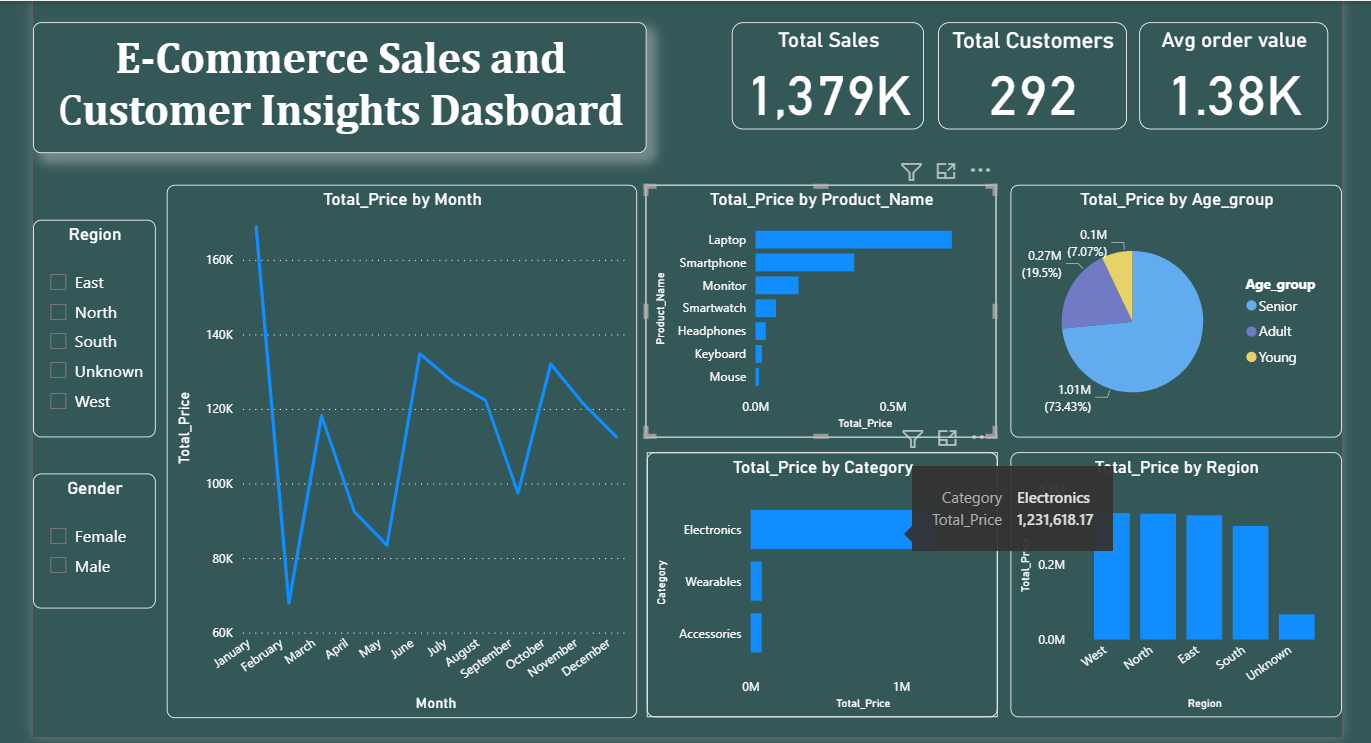

The dashboard page shown, as its layout file describes it:
{"tool":"powerbi","page":{"name":"Page 1","canvas":[1280,720],"ordinal":0},"visuals":[{"type":"card","title":"Total Sales","fields":{"Values":["Sum(ecommerce_db ecommerce_data.Total_Price)"]},"box":[683.3,20.8,188.3,105.1],"z":0},{"type":"card","title":"Total Customers","fields":{"Values":["ecommerce_db ecommerce_data.total customer"]},"box":[885,20.8,184.6,105.1],"z":1000},{"type":"card","title":"Avg order value","fields":{"Values":["ecommerce_db ecommerce_data.Avgorder"]},"box":[1081.8,20.8,184.6,105.1],"z":2000},{"type":"clusteredBarChart","fields":{"Category":["ecommerce_db ecommerce_data.Category"],"Y":["Sum(ecommerce_db ecommerce_data.Total_Price)"]},"box":[600.2,441.3,343.5,259.2],"z":3000},{"type":"clusteredColumnChart","fields":{"Category":["ecommerce_db ecommerce_data.Region"],"Y":["Sum(ecommerce_db ecommerce_data.Total_Price)"]},"box":[955.9,441.3,323.9,259.2],"z":4000},{"type":"clusteredBarChart","fields":{"Category":["ecommerce_db ecommerce_data.Product_Name"],"Y":["Sum(ecommerce_db ecommerce_data.Total_Price)"]},"box":[599,179.7,343.5,246.9],"z":5000},{"type":"pieChart","fields":{"Category":["ecommerce_db ecommerce_data.Age_group"],"Y":["Sum(ecommerce_db ecommerce_data.Total_Price)"]},"box":[955.9,179.7,323.9,246.9],"z":6000},{"type":"lineChart","fields":{"Y":["Sum(ecommerce_db ecommerce_data.Total_Price)"],"Category":["ecommerce_db ecommerce_data.Month_Year.Variation.Date Hierarchy.Month"]},"box":[130.8,179.7,459.6,522],"z":7000},{"type":"textbox","box":[0,20.8,600.2,128.4],"z":8000},{"type":"slicer","title":"Region","fields":{"Values":["ecommerce_db ecommerce_data.Region"]},"box":[0,213.9,119.8,212.7],"z":9000},{"type":"slicer","title":"Gender","fields":{"Values":["ecommerce_db ecommerce_data.Gender"]},"box":[0,462.1,119.8,132],"z":9001}]}

Visuals, with their boxes in screenshot pixels (x1, y1, x2, y2):
"Total Sales" card: detection(727, 18, 919, 124)
"Total Customers" card: detection(932, 18, 1120, 124)
"Avg order value" card: detection(1132, 18, 1320, 124)
clusteredBarChart - ecommerce_db ecommerce_data.Category x Sum(ecommerce_db ecommerce_data.Total_Price): detection(643, 445, 992, 709)
clusteredColumnChart - ecommerce_db ecommerce_data.Region x Sum(ecommerce_db ecommerce_data.Total_Price): detection(1004, 445, 1334, 709)
clusteredBarChart - ecommerce_db ecommerce_data.Product_Name x Sum(ecommerce_db ecommerce_data.Total_Price): detection(641, 179, 991, 430)
pieChart - ecommerce_db ecommerce_data.Age_group x Sum(ecommerce_db ecommerce_data.Total_Price): detection(1004, 179, 1334, 430)
lineChart - Sum(ecommerce_db ecommerce_data.Total_Price) x ecommerce_db ecommerce_data.Month_Year.Variation.Date Hierarchy.Month: detection(165, 179, 633, 710)
textbox: detection(32, 18, 643, 148)
"Region" slicer: detection(32, 214, 154, 430)
"Gender" slicer: detection(32, 466, 154, 601)
